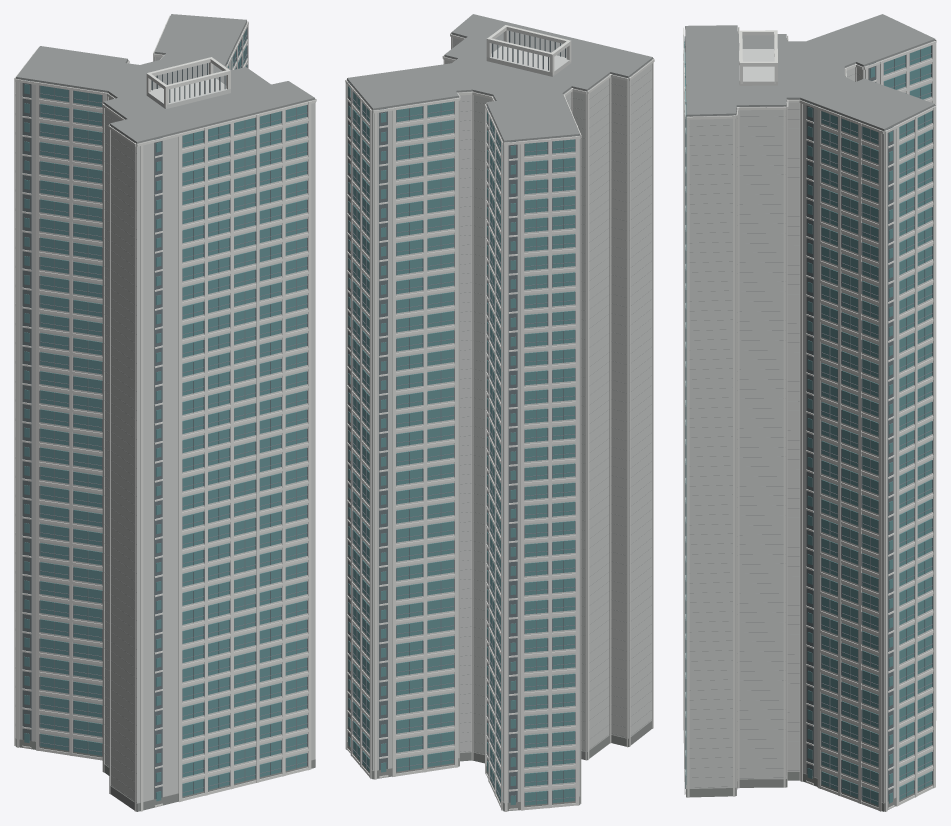
Rendered from bespoke-banpo-riche-105.glb.
3 views of the same model, side by side, from view 1: azimuth 30°, elevation 25°; view 2: azimuth 150°, elevation 25°; view 3: azimuth 270°, elevation 25° (orthographic).
Visible parts, largest first — view 1: Riche105_editable_Riche105_teal_rectangular_grouped_windows, Riche105_editable_Riche105_light_grey_solid_wall, Riche105_editable_Riche105_broad_white_facade_frames, Riche105_editable_Riche105_dark_horizontal_spandrels_and_mul, Riche105_editable_Riche105_modest_grey_flat_roof_caps, Riche105_editable_Riche105_dark_recessed_service_strip, Riche105_editable_Riche105_muted_ground_wall; view 2: Riche105_editable_Riche105_light_grey_solid_wall, Riche105_editable_Riche105_broad_white_facade_frames, Riche105_editable_Riche105_teal_rectangular_grouped_windows, Riche105_editable_Riche105_modest_grey_flat_roof_caps, Riche105_editable_Riche105_dark_horizontal_spandrels_and_mul, Riche105_editable_Riche105_dark_recessed_service_strip, Riche105_editable_Riche105_muted_ground_wall; view 3: Riche105_editable_Riche105_light_grey_solid_wall, Riche105_editable_Riche105_broad_white_facade_frames, Riche105_editable_Riche105_teal_rectangular_grouped_windows, Riche105_editable_Riche105_modest_grey_flat_roof_caps, Riche105_editable_Riche105_dark_horizontal_spandrels_and_mul, Riche105_editable_Riche105_dark_recessed_service_strip, Riche105_editable_Riche105_muted_ground_wall.
Part boxes in pixels (x1,y1,x2,y2): Riche105_editable_Riche105_teal_rectangular_grouped_windows: (24,29,306,801); Riche105_editable_Riche105_light_grey_solid_wall: (16,22,314,803); Riche105_editable_Riche105_broad_white_facade_frames: (14,15,316,811); Riche105_editable_Riche105_dark_horizontal_spandrels_and_mul: (39,27,307,796); Riche105_editable_Riche105_modest_grey_flat_roof_caps: (16,14,314,800); Riche105_editable_Riche105_dark_recessed_service_strip: (22,59,228,799); Riche105_editable_Riche105_muted_ground_wall: (15,738,315,811); Riche105_editable_Riche105_light_grey_solid_wall: (347,34,652,802); Riche105_editable_Riche105_broad_white_facade_frames: (345,25,654,811); Riche105_editable_Riche105_teal_rectangular_grouped_windows: (348,86,574,805); Riche105_editable_Riche105_modest_grey_flat_roof_caps: (347,14,652,753); Riche105_editable_Riche105_dark_horizontal_spandrels_and_mul: (352,91,575,805); Riche105_editable_Riche105_dark_recessed_service_strip: (348,31,565,802); Riche105_editable_Riche105_muted_ground_wall: (347,720,651,811); Riche105_editable_Riche105_light_grey_solid_wall: (685,41,934,803); Riche105_editable_Riche105_broad_white_facade_frames: (683,27,936,811); Riche105_editable_Riche105_teal_rectangular_grouped_windows: (684,41,932,805); Riche105_editable_Riche105_modest_grey_flat_roof_caps: (685,14,935,787); Riche105_editable_Riche105_dark_horizontal_spandrels_and_mul: (684,45,933,805); Riche105_editable_Riche105_dark_recessed_service_strip: (684,36,893,801); Riche105_editable_Riche105_muted_ground_wall: (686,772,932,811).
Size of the model in its own units: 35.71 by 101 by 32.84.
